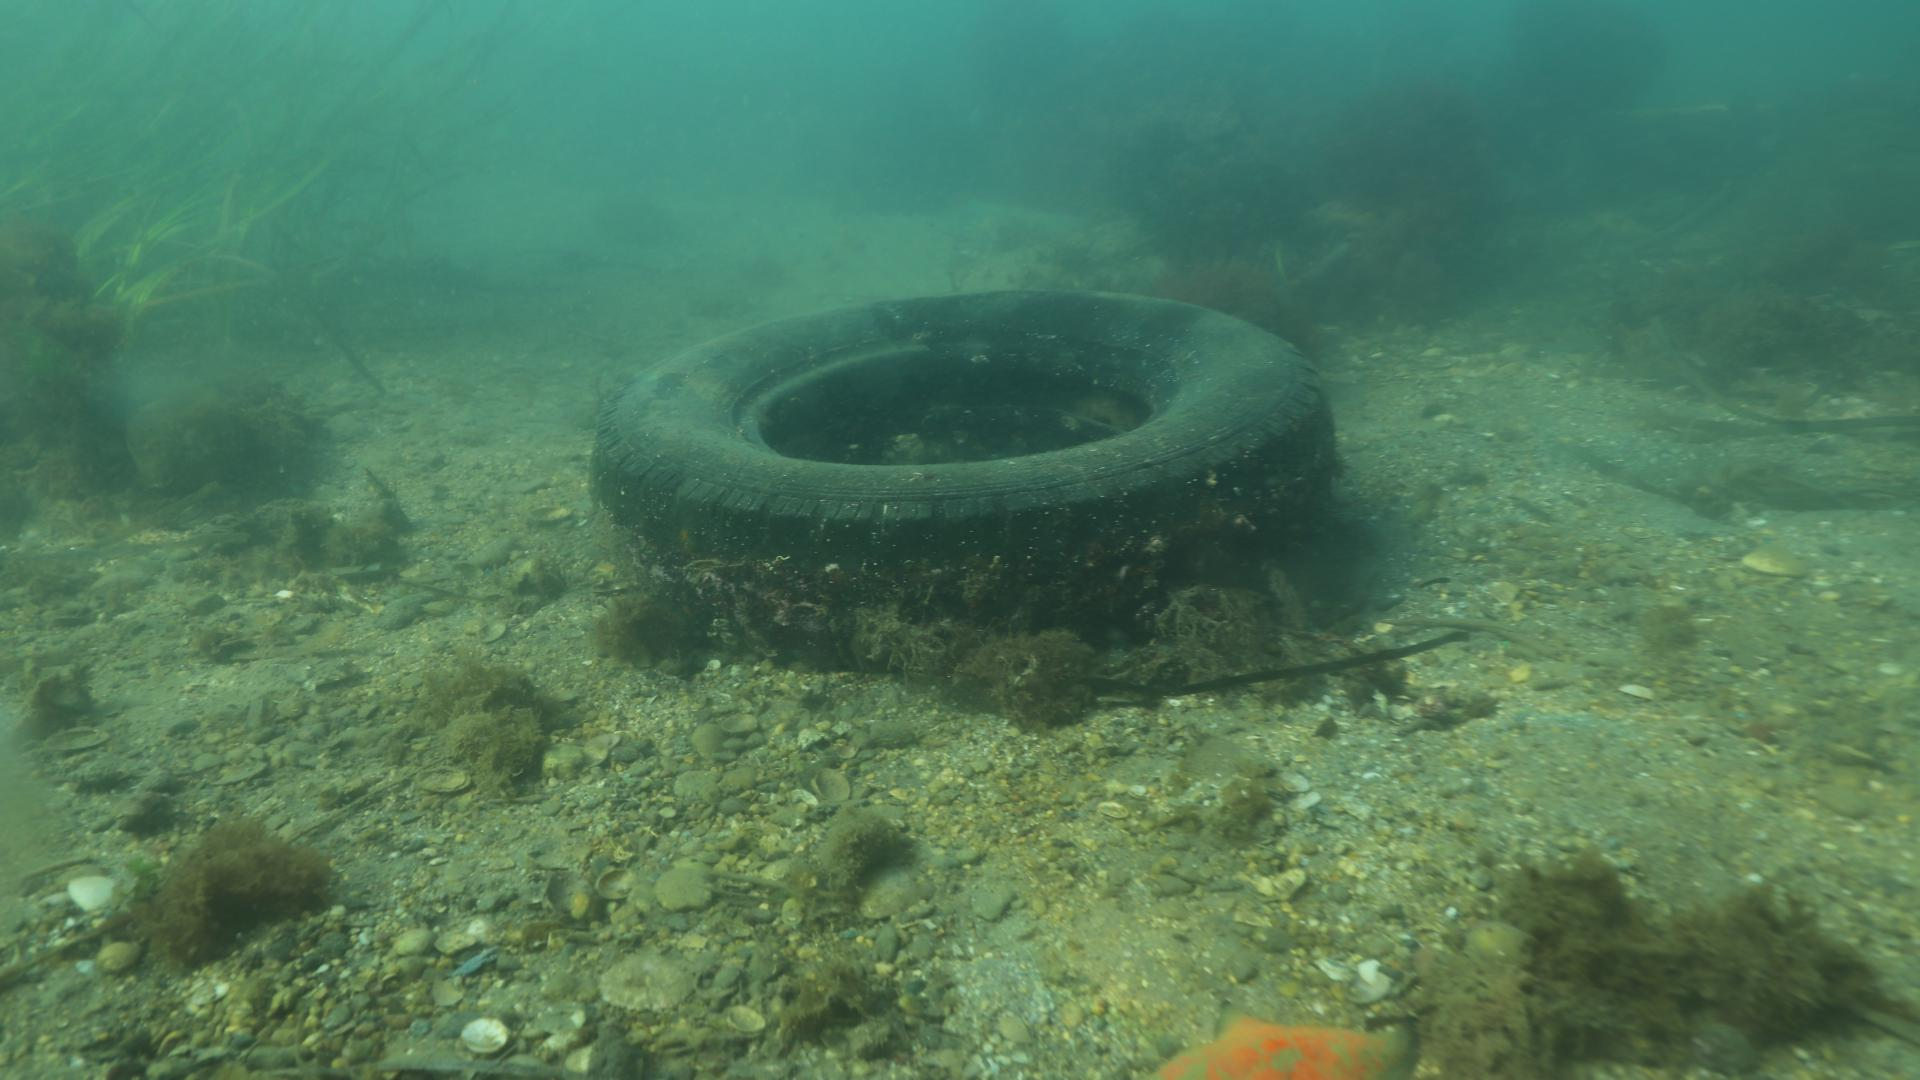tire: (591, 287, 1338, 665)
